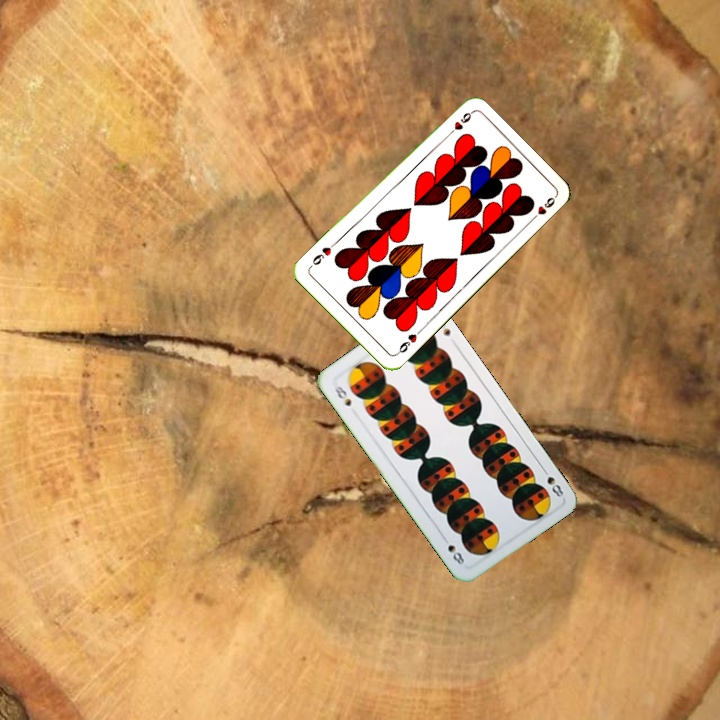H9: (392, 325, 424, 358), (442, 108, 474, 140)
S8: (538, 463, 566, 500), (331, 382, 354, 409)
